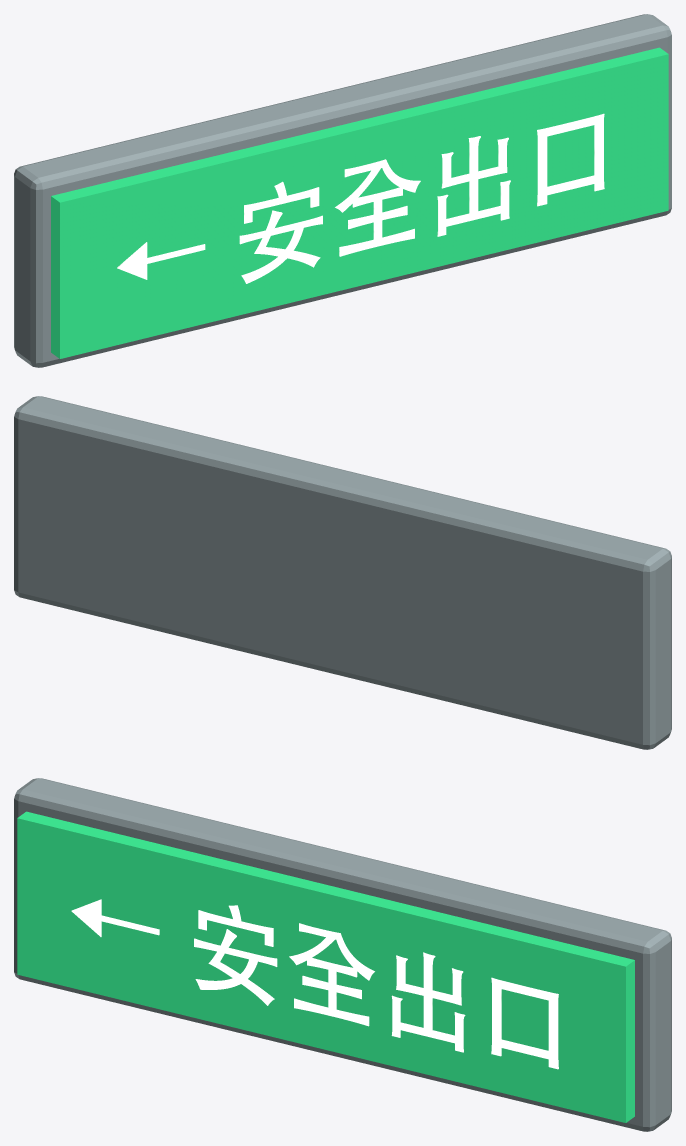
File: escape-sign.glb
3 renders of one model, top to bottom at view 1: azimuth 30°, elevation 25°; view 2: azimuth 150°, elevation 25°; view 3: azimuth 330°, elevation 25°, orthographic.
Parts seen in each view (by area): view 1: Exit face, Exit box, ← 安全出口; view 2: Exit box; view 3: Exit face, Exit box, ← 安全出口.
Boxes of the visible parts, x1,y1,x2,y2 form: Exit face: (51,47,668,358); Exit box: (14,14,671,367); ← 安全出口: (117,113,604,283); Exit box: (14,396,671,749); Exit face: (17,811,634,1122); Exit box: (14,778,671,1131); ← 安全出口: (71,899,558,1069).
Bounding box in the file's own units: 1.2 × 0.34 × 0.115.
